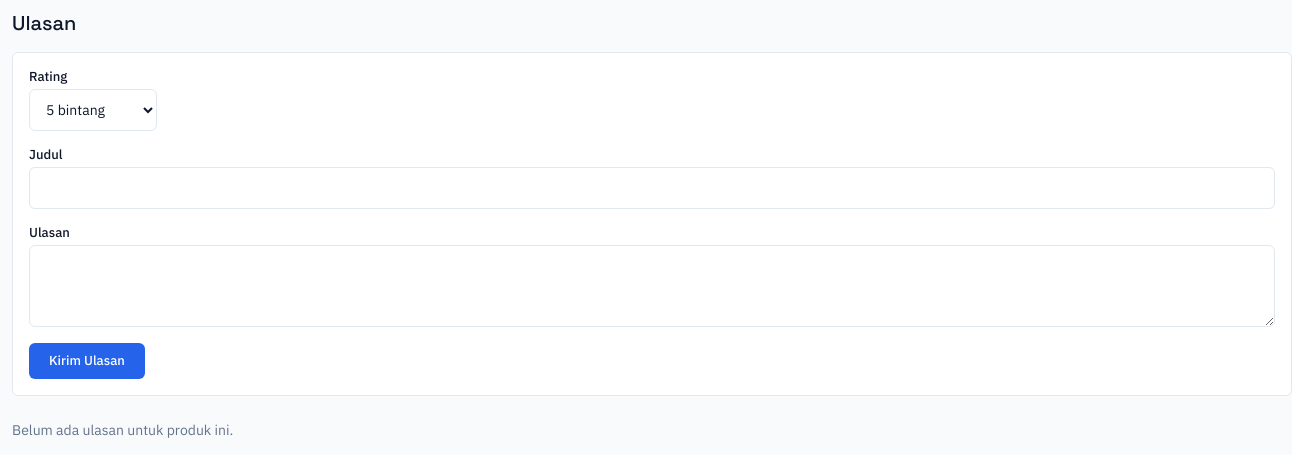
Test: ProductReviews › lets a logged-in user submit a review and shows the pending-moderation message
In the field labelled "Judul": [652, 188] box [29,167,1275,209], type "Bagus banget"
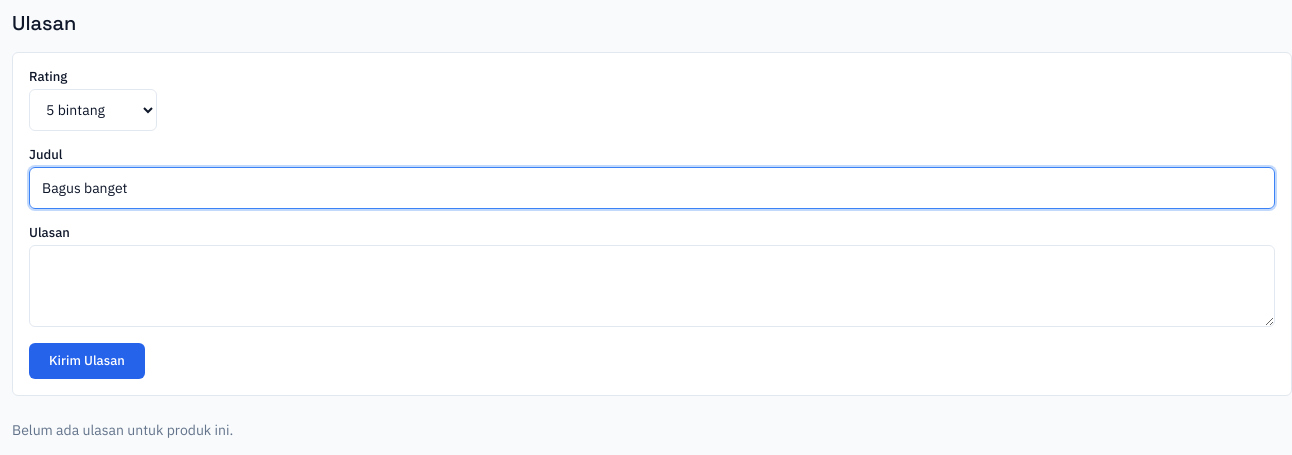
In the text box labelled "Ulasan": [652, 286] box [29,245,1275,327], type "Kualitas produk sangat memuaskan sekali."
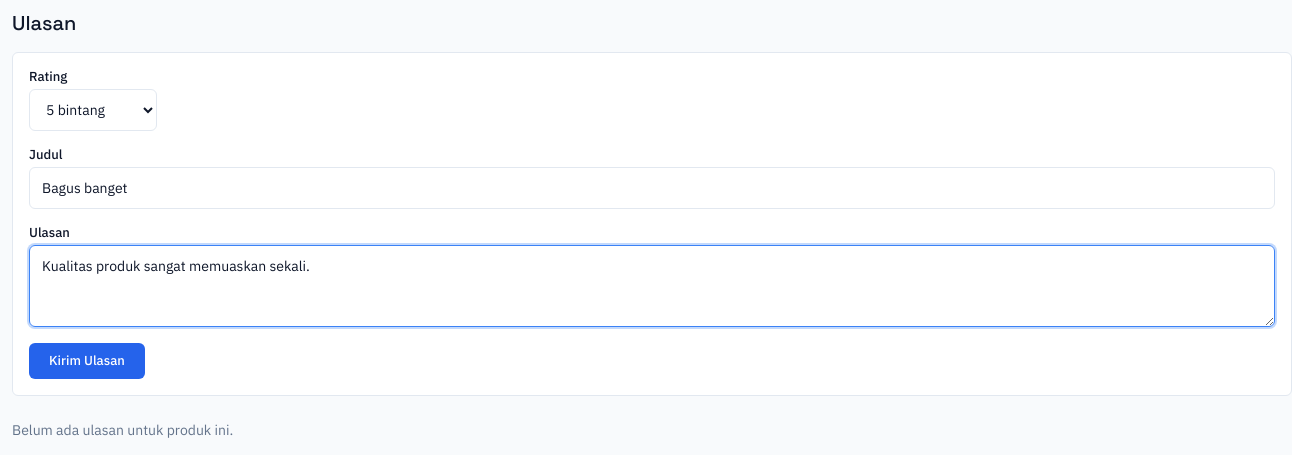
Click the button "Kirim Ulasan": [87, 361] box [29,343,145,379]
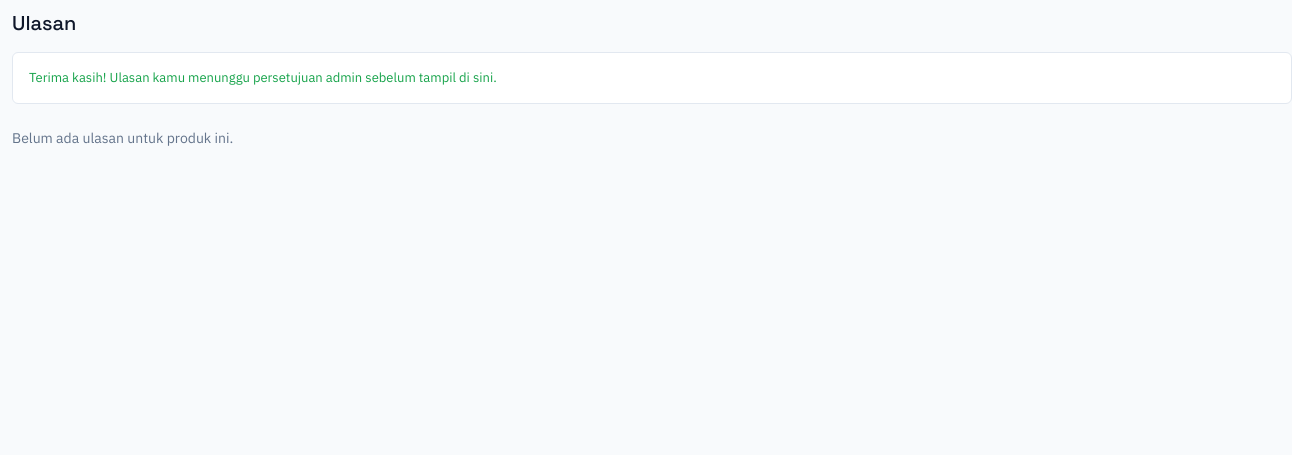
expect the text "menunggu persetujuan admin" is shown: met, box [29,69,497,86]
